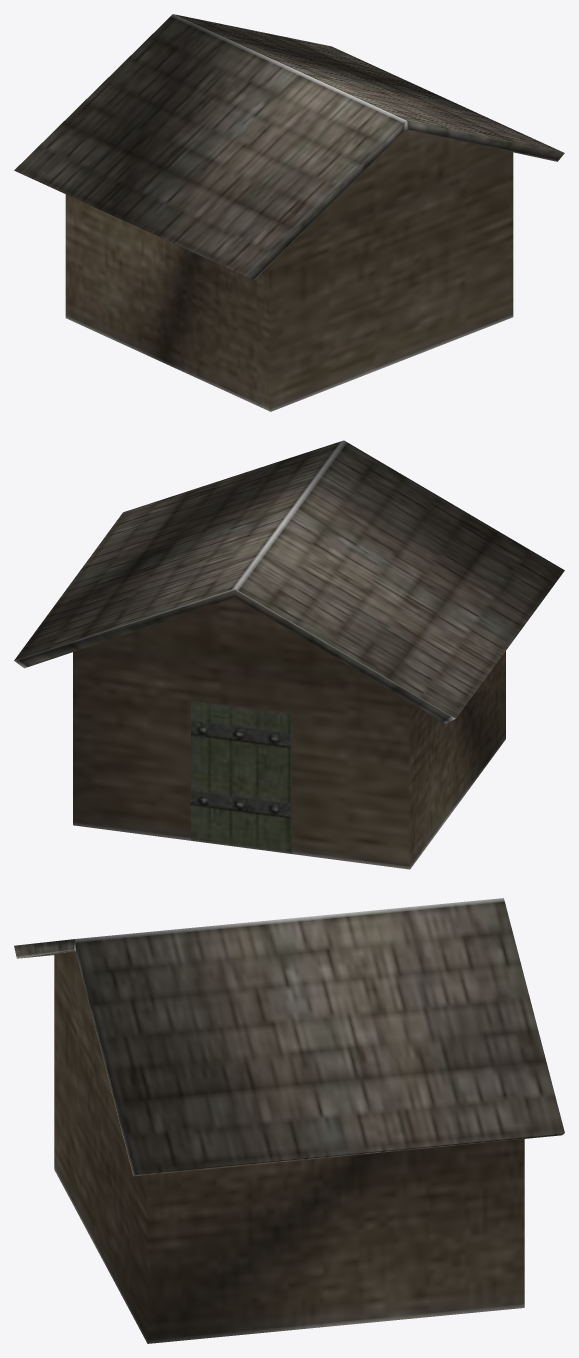
The model's file is pastvina_domek6.fbx.
The picture shows the model from 3 angles, top to bottom: view 1: azimuth 30°, elevation 25°; view 2: azimuth 150°, elevation 25°; view 3: azimuth 270°, elevation 25°; orthographic projection. The views are drawn at different scales.
Visible parts, largest first — view 1: Do_Steny6, Do_Strecha6; view 2: Do_Strecha6, Do_Steny6, Do_Dvere6; view 3: Do_Strecha6, Do_Steny6.
Boxes of the visible parts, x1,y1,x2,y2 form: Do_Steny6: (65, 129, 513, 411); Do_Strecha6: (14, 14, 564, 279); Do_Strecha6: (14, 440, 564, 723); Do_Steny6: (73, 598, 505, 869); Do_Dvere6: (191, 700, 291, 853); Do_Strecha6: (14, 898, 564, 1176); Do_Steny6: (54, 951, 524, 1343).
Size of the model in its own units: 2.81 by 1.56 by 2.43.
Materials: 1 (1 with a texture image).
